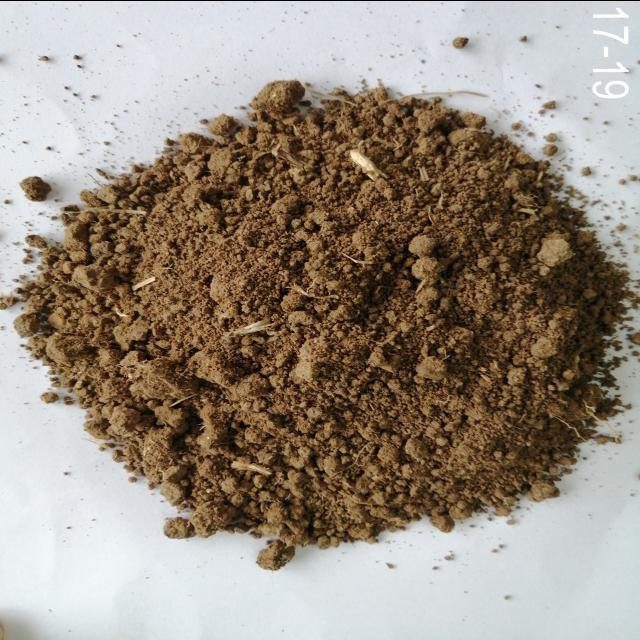soil: (118, 169, 540, 463)
